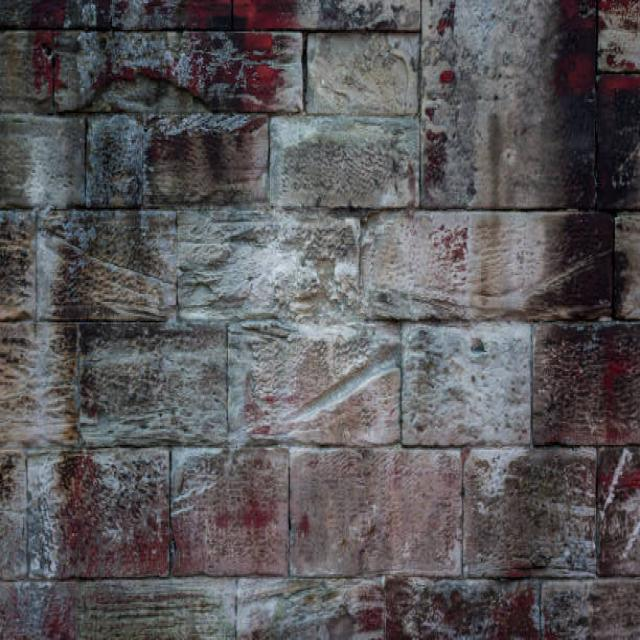stain_mould: (0, 2, 597, 639)
